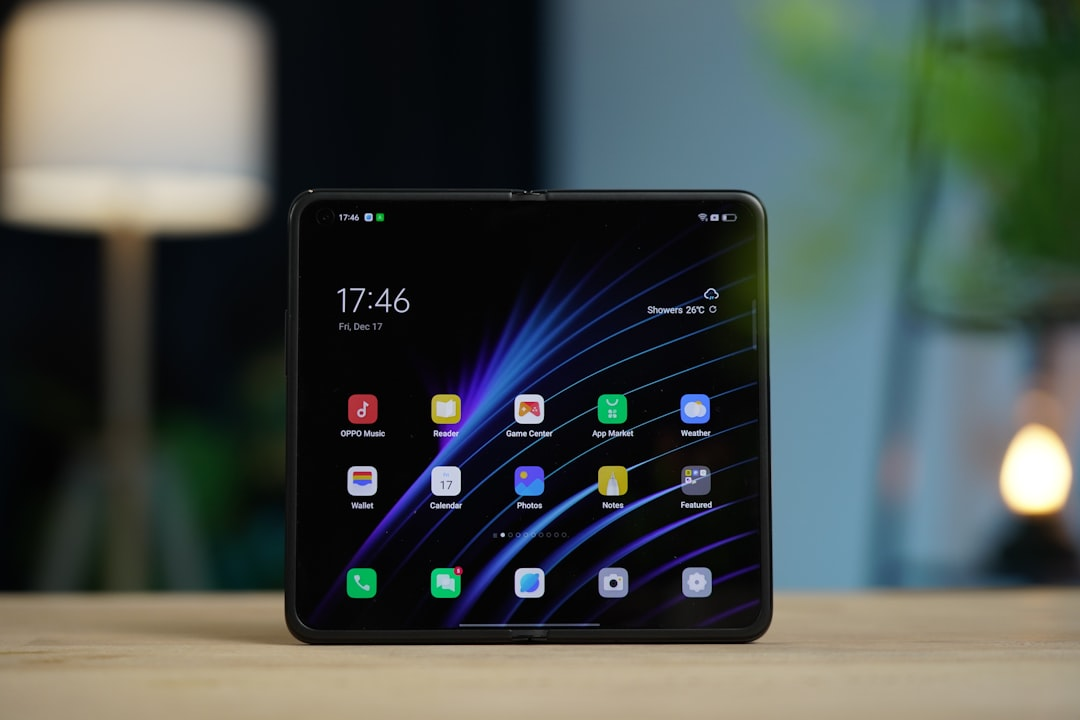phone: (282, 184, 773, 647)
